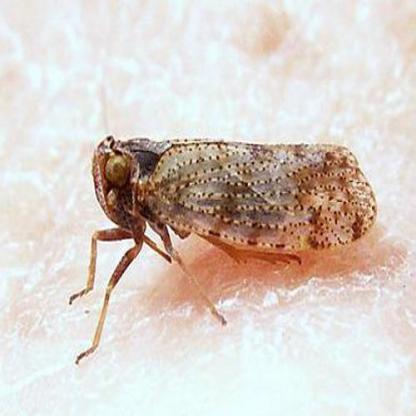brown-planthopper: (85, 124, 378, 288)
